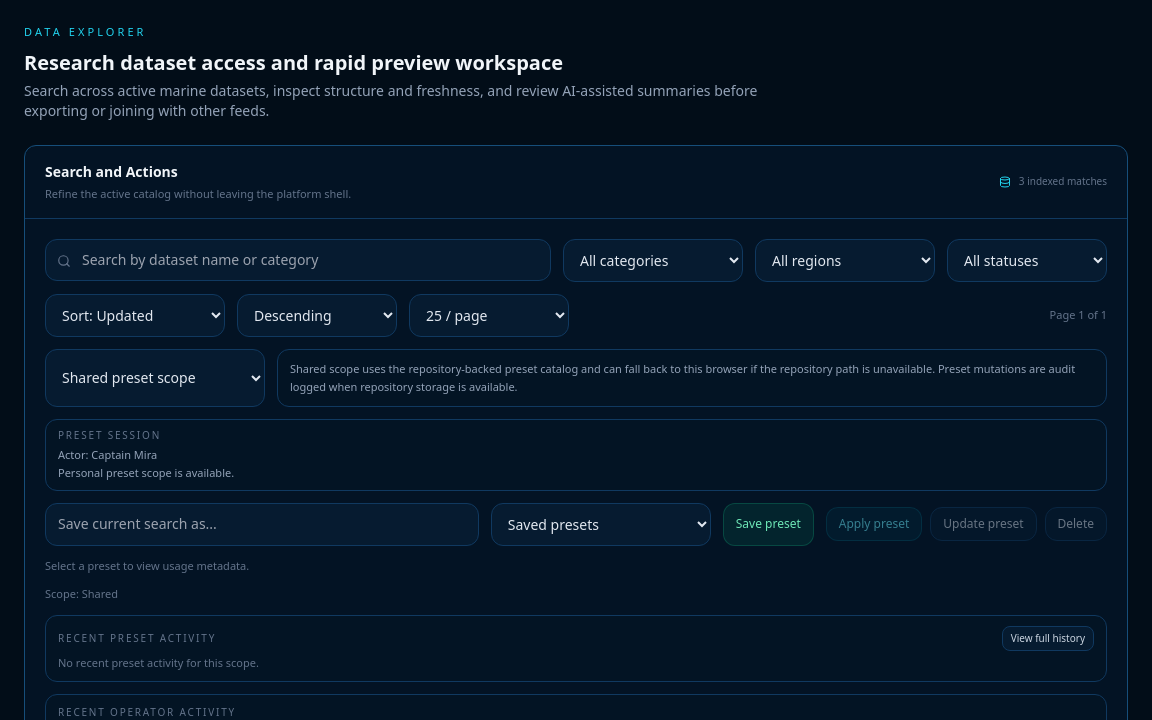
Scenario: applying a preset updates rendered usage metadata
This screenshot has width=1152, height=720.
Select "Usage Update" in the dropdown named "Saved presets". click: (601, 524)
box: top-left (491, 503), bottom-right (711, 546)
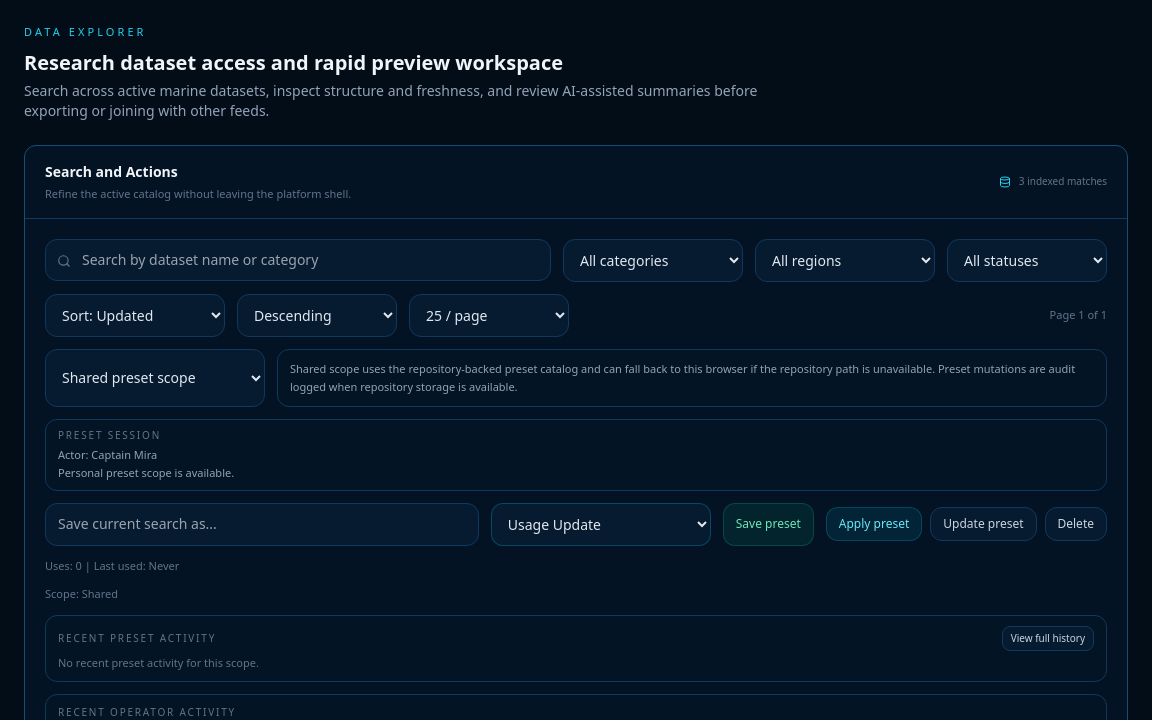
Result: the text with test id "saved-preset-usage-meta" shows "Uses: 0" at top-left (45, 558), bottom-right (179, 573)
Result: the text with test id "saved-preset-usage-meta" shows "Last used: Never" at top-left (45, 558), bottom-right (179, 573)
Click the button "Apply preset". click: (874, 524)
box: top-left (826, 507), bottom-right (922, 541)
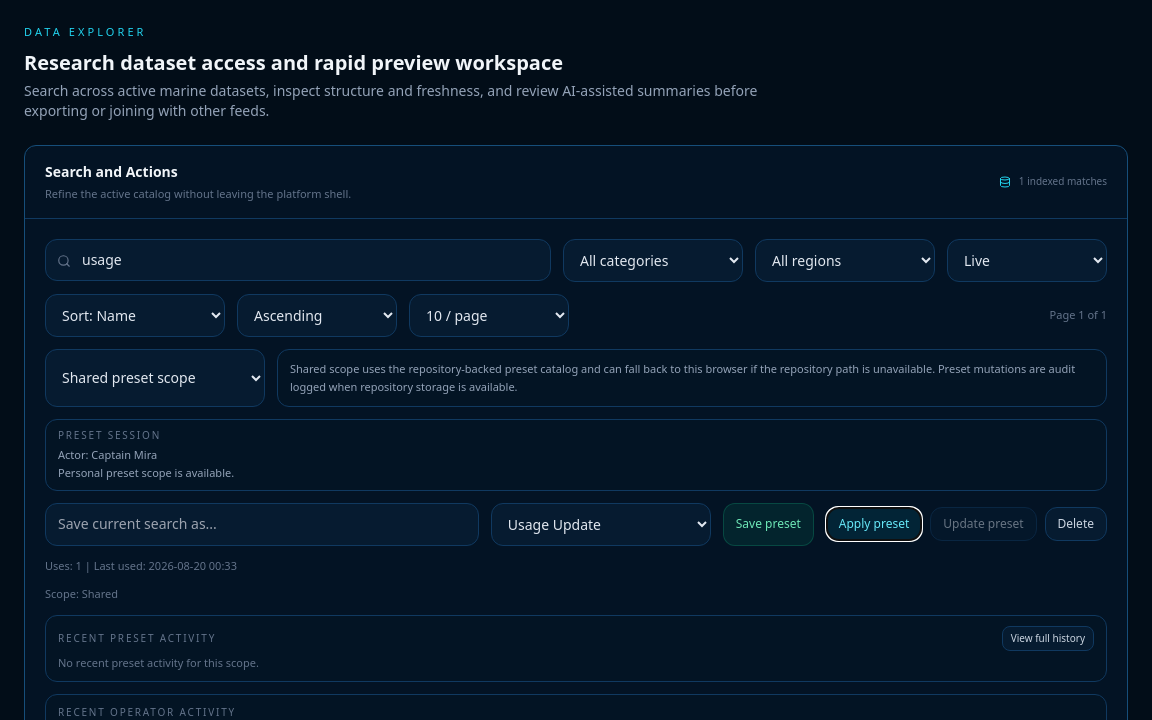
Result: the text with test id "saved-preset-usage-meta" shows "Uses: 1" at top-left (45, 558), bottom-right (237, 573)
Result: the text with test id "saved-preset-usage-meta" no longer shows "Last used: Never" at top-left (45, 558), bottom-right (237, 573)
